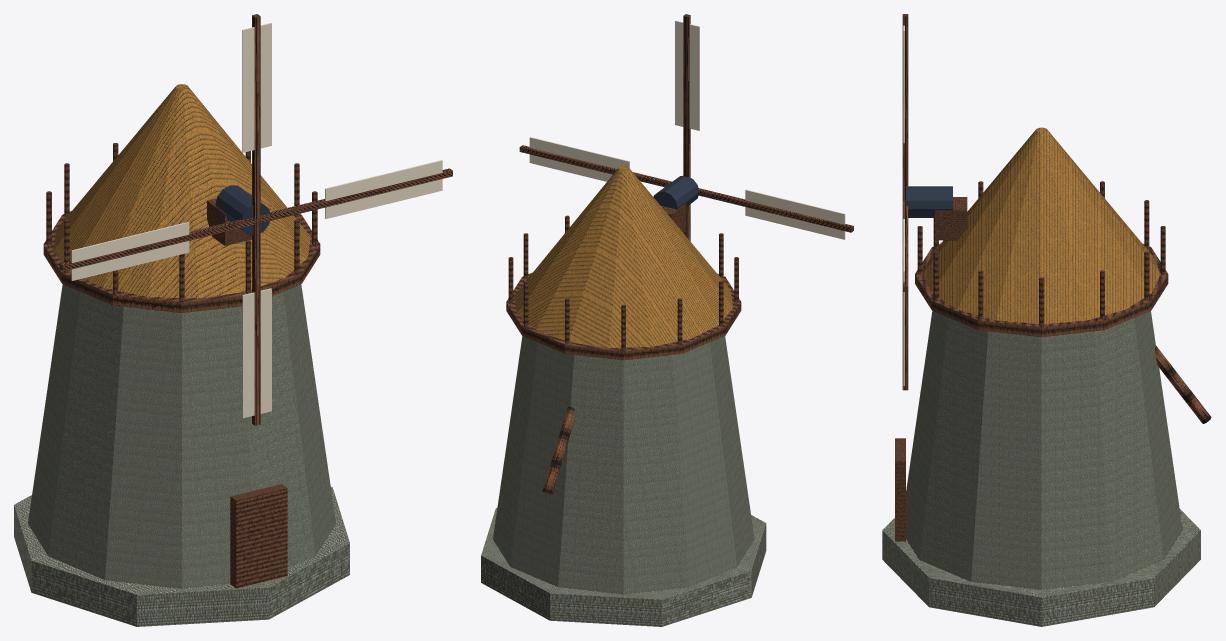
File: molino_campo.glb
The picture shows the model from 3 angles, left to right: view 1: azimuth 30°, elevation 25°; view 2: azimuth 150°, elevation 25°; view 3: azimuth 270°, elevation 25°; orthographic projection. The views are drawn at different scales.
Visible parts, largest first — view 1: Cone, Cone.001, Cylinder, Cube, Cylinder.001, Cube.009, Cube.003, Cube.007, Cube.005, Cube.002, Cube.006, Cube.008 (+3 smaller); view 2: Cone, Cone.001, Cylinder, Cylinder.001, Cube.009, Cube.003, Cube.005, Cube.002, Cube.008, Cylinder.014, Cylinder.015, Cube.004; view 3: Cone, Cone.001, Cylinder, Cylinder.001, Cylinder.014, Cube.002, Cube.001, Cube, Cylinder.015, Cube.006, Cube.004.
Boxes of the visible parts, x1=… form: Cone: x1=28, y1=284, x2=335, y2=588; Cone.001: x1=53, y1=84, x2=310, y2=298; Cylinder: x1=14, y1=486, x2=349, y2=626; Cube: x1=230, y1=484, x2=287, y2=588; Cylinder.001: x1=43, y1=211, x2=320, y2=313; Cube.009: x1=71, y1=222, x2=189, y2=280; Cube.003: x1=242, y1=23, x2=271, y2=152; Cube.007: x1=242, y1=288, x2=271, y2=418; Cube.005: x1=325, y1=160, x2=442, y2=218; Cube.002: x1=252, y1=14, x2=260, y2=221; Cube.006: x1=252, y1=220, x2=260, y2=425; Cube.008: x1=59, y1=217, x2=257, y2=271; Cone: x1=493, y1=336, x2=754, y2=594; Cone.001: x1=514, y1=166, x2=733, y2=347; Cylinder: x1=481, y1=508, x2=766, y2=626; Cylinder.001: x1=506, y1=272, x2=741, y2=360; Cube.009: x1=745, y1=189, x2=845, y2=239; Cube.003: x1=675, y1=20, x2=699, y2=130; Cube.005: x1=529, y1=137, x2=629, y2=181; Cube.002: x1=683, y1=14, x2=690, y2=177; Cube.008: x1=697, y1=188, x2=853, y2=232; Cylinder.014: x1=653, y1=176, x2=698, y2=209; Cylinder.015: x1=542, y1=406, x2=575, y2=494; Cube.004: x1=519, y1=145, x2=671, y2=187; Cone: x1=906, y1=311, x2=1182, y2=589; Cone.001: x1=922, y1=127, x2=1160, y2=323; Cylinder: x1=882, y1=509, x2=1200, y2=626; Cylinder.001: x1=915, y1=243, x2=1168, y2=337; Cylinder.014: x1=906, y1=186, x2=952, y2=217; Cube.002: x1=902, y1=14, x2=908, y2=200; Cube.001: x1=935, y1=197, x2=967, y2=240; Cube: x1=895, y1=438, x2=905, y2=541; Cylinder.015: x1=1155, y1=346, x2=1211, y2=423; Cube.006: x1=902, y1=292, x2=908, y2=390; Cube.004: x1=902, y1=200, x2=908, y2=291.
Size of the model in its own units: 5.7 by 8.3 by 4.55.
Materials: 5 (3 with a texture image).
